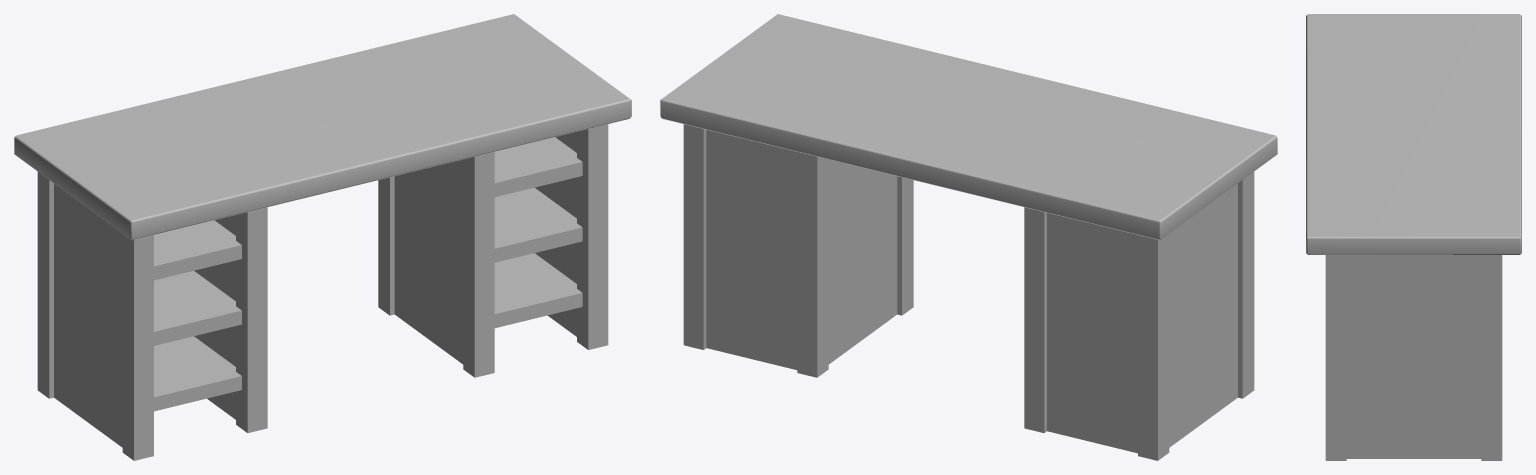
File: work_table_006.fbx
3 renders of one model, left to right at view 1: azimuth 30°, elevation 25°; view 2: azimuth 150°, elevation 25°; view 3: azimuth 270°, elevation 25°, orthographic. The views are drawn at different scales.
Visible parts, largest first — view 1: work_table_006; view 2: work_table_006; view 3: work_table_006.
Part boxes in pixels (left/top/right/bottom): work_table_006: left=14, top=14, right=631, bottom=460; work_table_006: left=660, top=14, right=1277, bottom=460; work_table_006: left=1306, top=14, right=1521, bottom=460.
Size of the model in its own units: 192 by 78.11 by 91.76.
